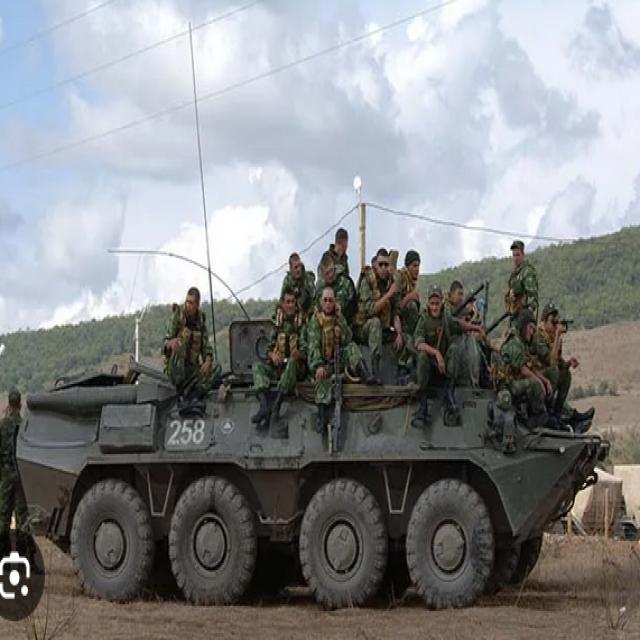MIL_APC: (13, 291, 613, 593)
